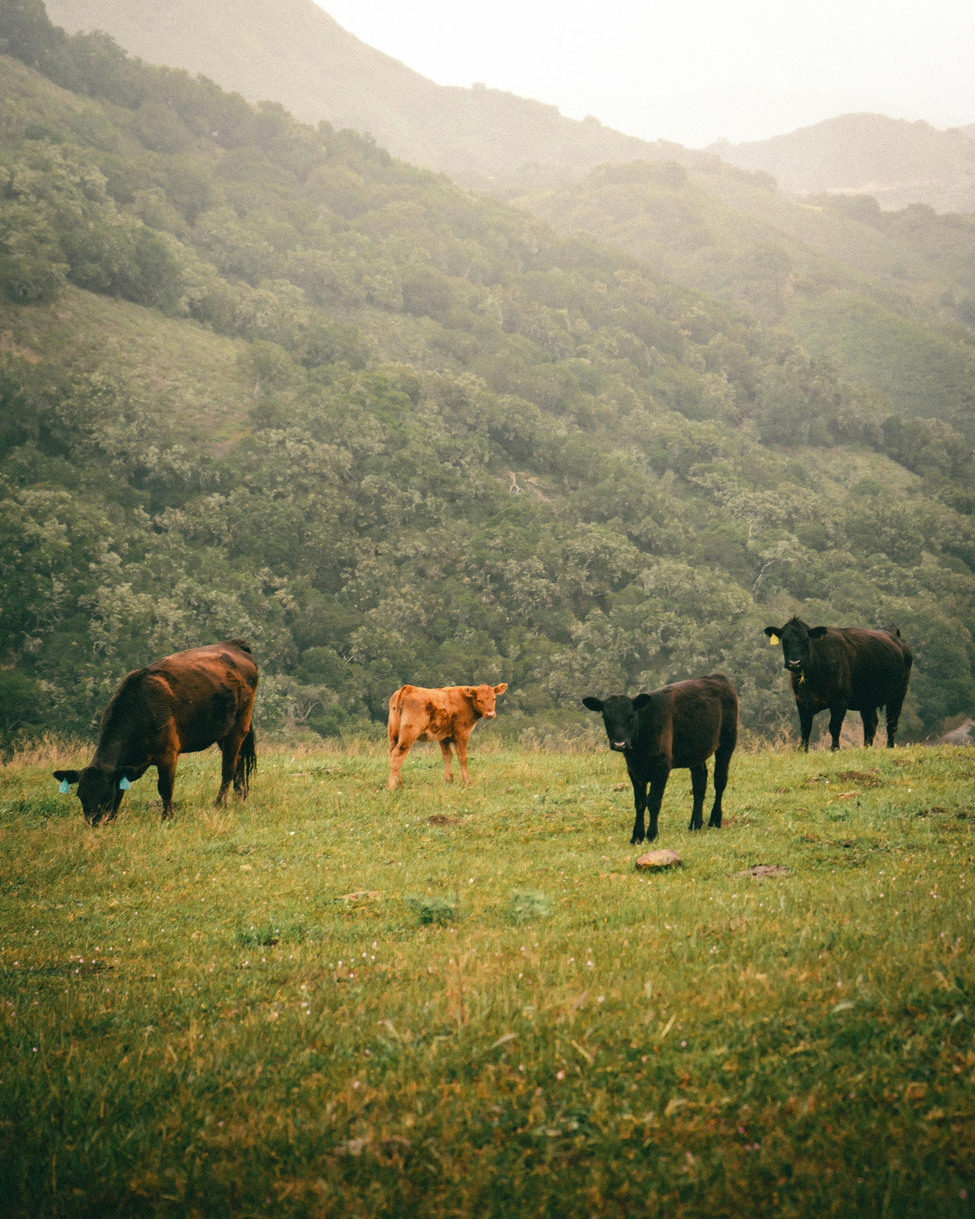bovino: (53, 623, 259, 830), (575, 674, 760, 841), (766, 616, 915, 746), (374, 674, 509, 793)
